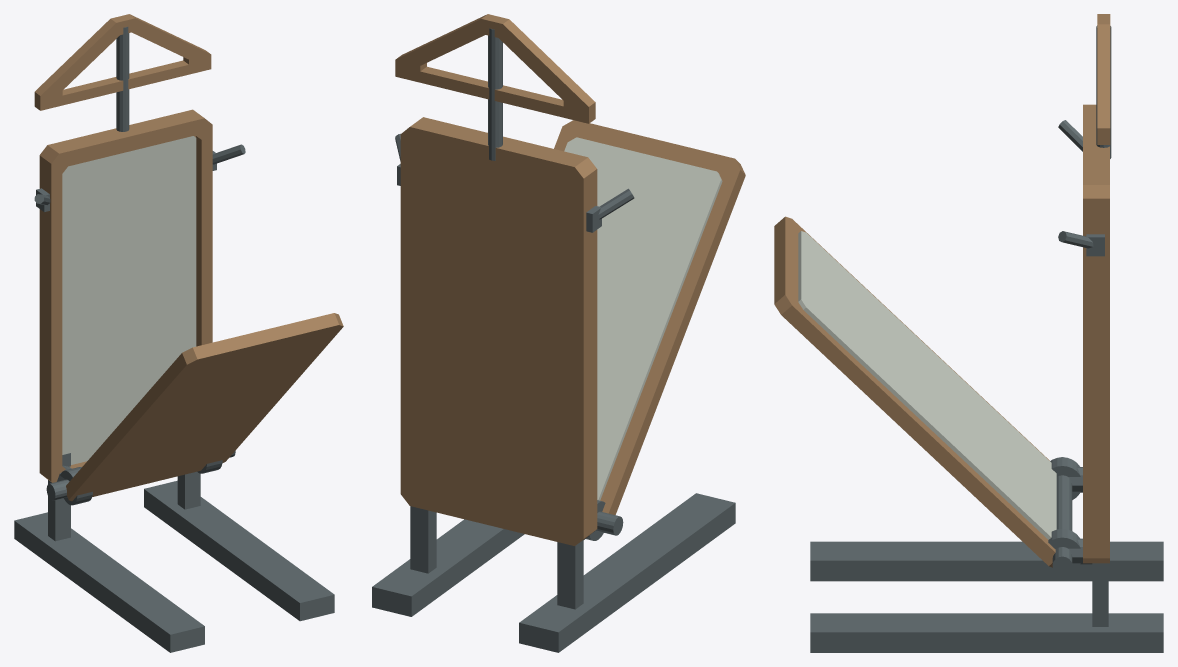
The picture shows the model from 3 angles, left to right: view 1: azimuth 30°, elevation 25°; view 2: azimuth 150°, elevation 25°; view 3: azimuth 270°, elevation 25°; orthographic projection. The views are drawn at different scales.
Parts seen in each view (by area): view 1: WholeInsetBackFacing, WholeForwardOpenFrontBoard, WholeRecessedUprightBackCase, RightWholeGroundShoe, LeftWholeGroundShoe, WholeOpenShoulderHanger, WholeRearHangerPost, LeftWholeBackSupport, RightWholeBackSupport; view 2: WholeRecessedUprightBackCase, WholeInsetFrontFacing, LeftWholeGroundShoe, WholeForwardOpenFrontBoard, WholeOpenShoulderHanger, RightWholeGroundShoe, LeftWholeBackSupport, RightWholeBackSupport, WholeRearHangerPost; view 3: WholeInsetFrontFacing, RightWholeGroundShoe, LeftWholeGroundShoe, WholeRecessedUprightBackCase, WholeForwardOpenFrontBoard, WholeOpenShoulderHanger, WholeTransverseLowerPivot, RightWholeBackSupport, RightLowerBoredPivotSeat.
Boxes of the visible parts, box(x1,y1,x2,y2) form: WholeInsetBackFacing: box(62, 136, 196, 464); WholeForwardOpenFrontBoard: box(66, 313, 343, 501); WholeRecessedUprightBackCase: box(39, 109, 212, 482); RightWholeGroundShoe: box(144, 480, 334, 621); LeftWholeGroundShoe: box(14, 512, 204, 652); WholeOpenShoulderHanger: box(34, 14, 211, 110); WholeRearHangerPost: box(116, 26, 129, 131); LeftWholeBackSupport: box(48, 453, 70, 541); RightWholeBackSupport: box(177, 471, 200, 509); WholeRecessedUprightBackCase: box(400, 117, 597, 545); WholeInsetFrontFacing: box(564, 137, 722, 500); LeftWholeGroundShoe: box(519, 493, 735, 652); WholeForwardOpenFrontBoard: box(554, 120, 745, 514); WholeOpenShoulderHanger: box(395, 14, 595, 123); RightWholeGroundShoe: box(372, 519, 524, 616); LeftWholeBackSupport: box(557, 540, 583, 609); RightWholeBackSupport: box(410, 506, 436, 573); WholeRearHangerPost: box(488, 28, 502, 160); WholeInsetFrontFacing: box(798, 231, 1056, 539); RightWholeGroundShoe: box(810, 613, 1163, 652); LeftWholeGroundShoe: box(810, 541, 1163, 581); WholeRecessedUprightBackCase: box(1083, 104, 1109, 563); WholeForwardOpenFrontBoard: box(774, 216, 1055, 567); WholeOpenShoulderHanger: box(1097, 14, 1110, 144); WholeTransverseLowerPivot: box(1052, 457, 1072, 574); RightWholeBackSupport: box(1092, 563, 1108, 626); RightLowerBoredPivotSeat: box(1043, 529, 1080, 573).
Size of the model in its own units: 0.6665 by 1.57 by 0.942.
